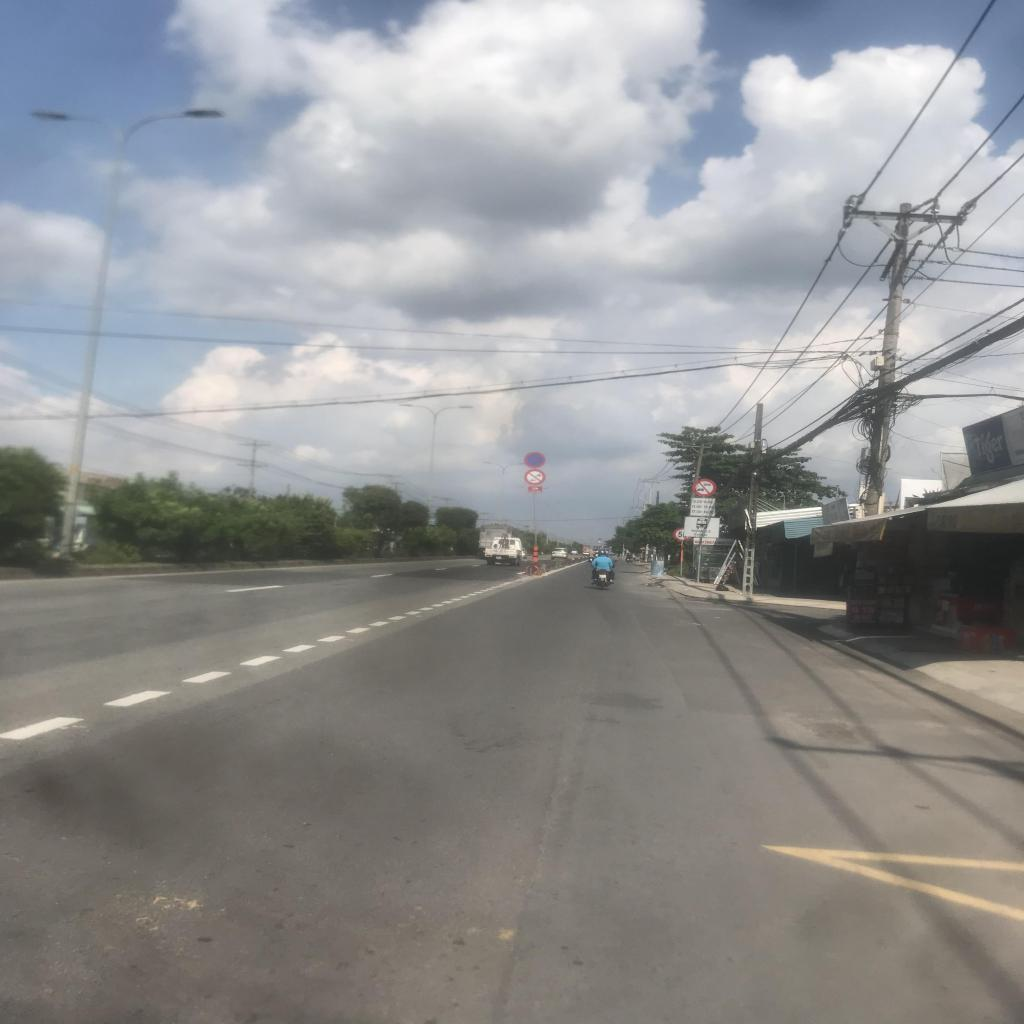cam_dung_xe_va_do_xe: (524, 452, 546, 468)
cam_o_to_tai_va_xe_khach: (692, 478, 717, 497)
cam_xe_2_banh_va_xe_3_banh_co_dong_co: (522, 469, 546, 485)
khac: (684, 517, 718, 537), (691, 497, 715, 516)
toc_do_toi_da_50: (672, 526, 691, 542)
